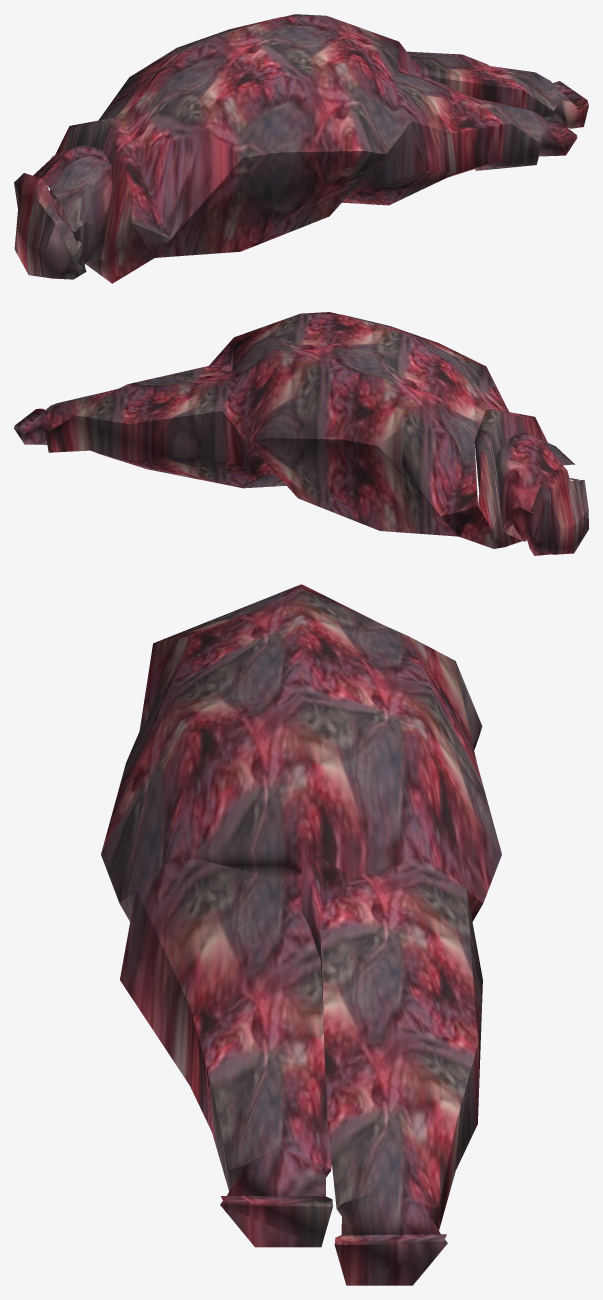
The model's file is corpse.glb.
3 renders of one model, top to bottom at view 1: azimuth 30°, elevation 25°; view 2: azimuth 150°, elevation 25°; view 3: azimuth 270°, elevation 25°, orthographic. The views are drawn at different scales.
Visible parts, largest first — view 1: corpse.ms3d.mo; view 2: corpse.ms3d.mo; view 3: corpse.ms3d.mo.
Boxes of the visible parts, x1=… form: corpse.ms3d.mo: x1=14, y1=14, x2=588, y2=283; corpse.ms3d.mo: x1=14, y1=312, x2=588, y2=555; corpse.ms3d.mo: x1=101, y1=584, x2=501, y2=1285.
Bounding box in the file's own units: 56.36 × 18.81 × 18.52.
1 material, 1 textured.
